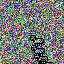sheep: (30, 35, 44, 46), (31, 45, 45, 56), (34, 53, 48, 64), (40, 60, 54, 64)
